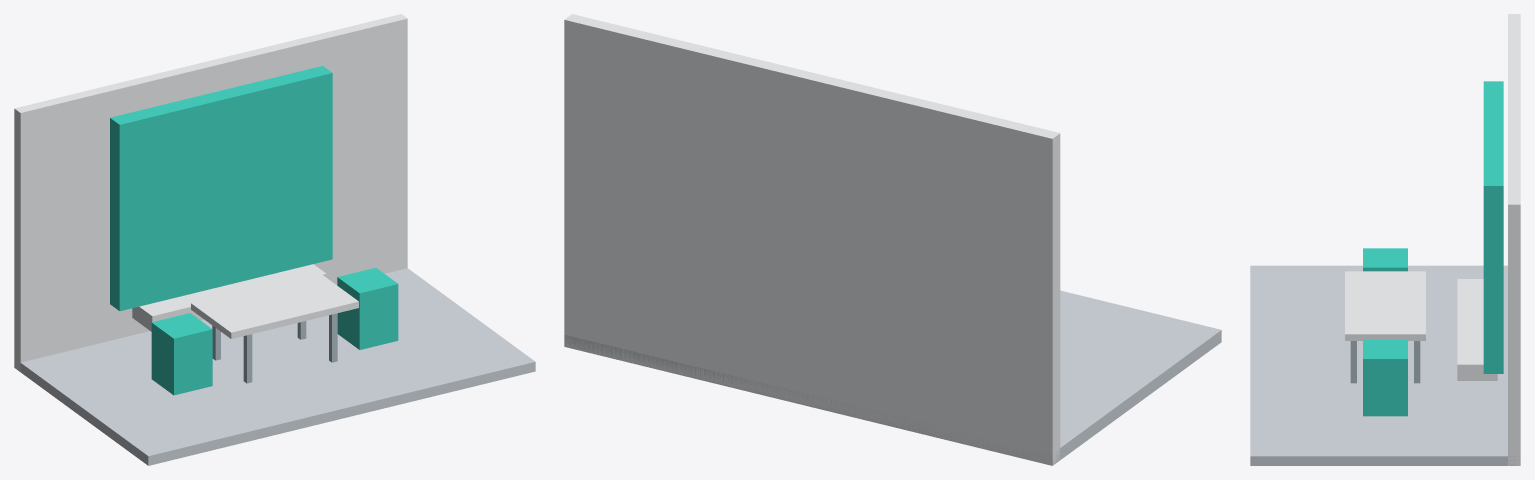
The picture shows the model from 3 angles, left to right: view 1: azimuth 30°, elevation 25°; view 2: azimuth 150°, elevation 25°; view 3: azimuth 270°, elevation 25°; orthographic projection. The views are drawn at different scales.
Visible parts, largest first — view 1: Exhibition Booth Concept; view 2: Exhibition Booth Concept; view 3: Exhibition Booth Concept.
Part boxes in pixels (<box>): Exhibition Booth Concept: <box>14,14,535,465</box>; Exhibition Booth Concept: <box>564,14,1221,465</box>; Exhibition Booth Concept: <box>1250,14,1520,465</box>.
Size of the model in its own units: 5 by 3.2 by 3.
